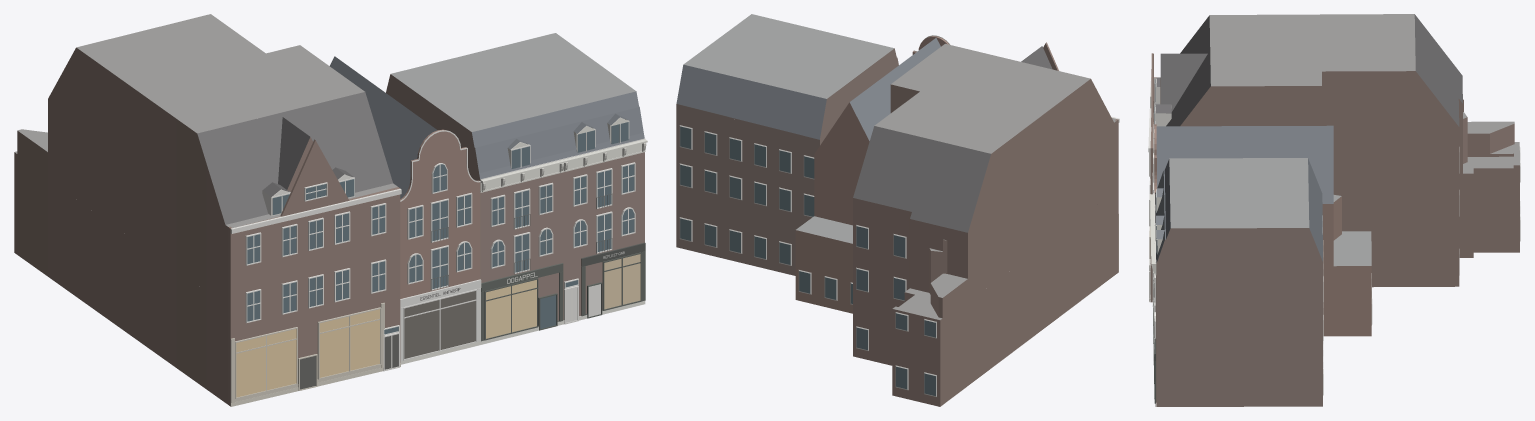
Rendered from chunk-face-baerle-22-30.glb.
3 views of the same model, side by side, from view 1: azimuth 30°, elevation 25°; view 2: azimuth 150°, elevation 25°; view 3: azimuth 270°, elevation 25° (orthographic). The views are drawn at different scales.
Parts seen in each view (by area): view 1: face-baerle-22-30; view 2: face-baerle-22-30; view 3: face-baerle-22-30.
Part boxes in pixels (x1=…): face-baerle-22-30: x1=14, y1=14, x2=647, y2=406; face-baerle-22-30: x1=676, y1=14, x2=1119, y2=406; face-baerle-22-30: x1=1148, y1=14, x2=1520, y2=406.
Size of the model in its own units: 34.09 by 19.31 by 30.17.
